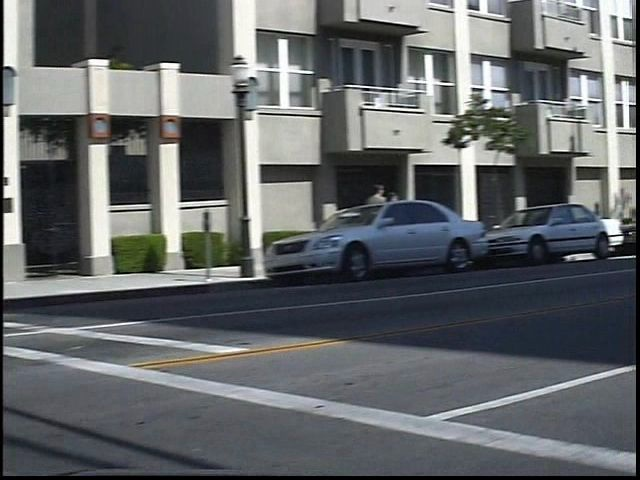person: (380, 180, 404, 254), (397, 188, 418, 249)
